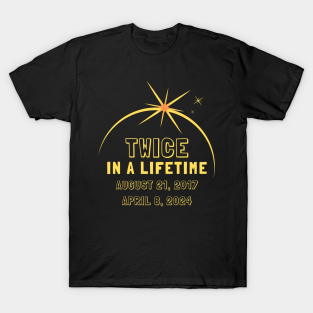design: (96, 78, 218, 208)
